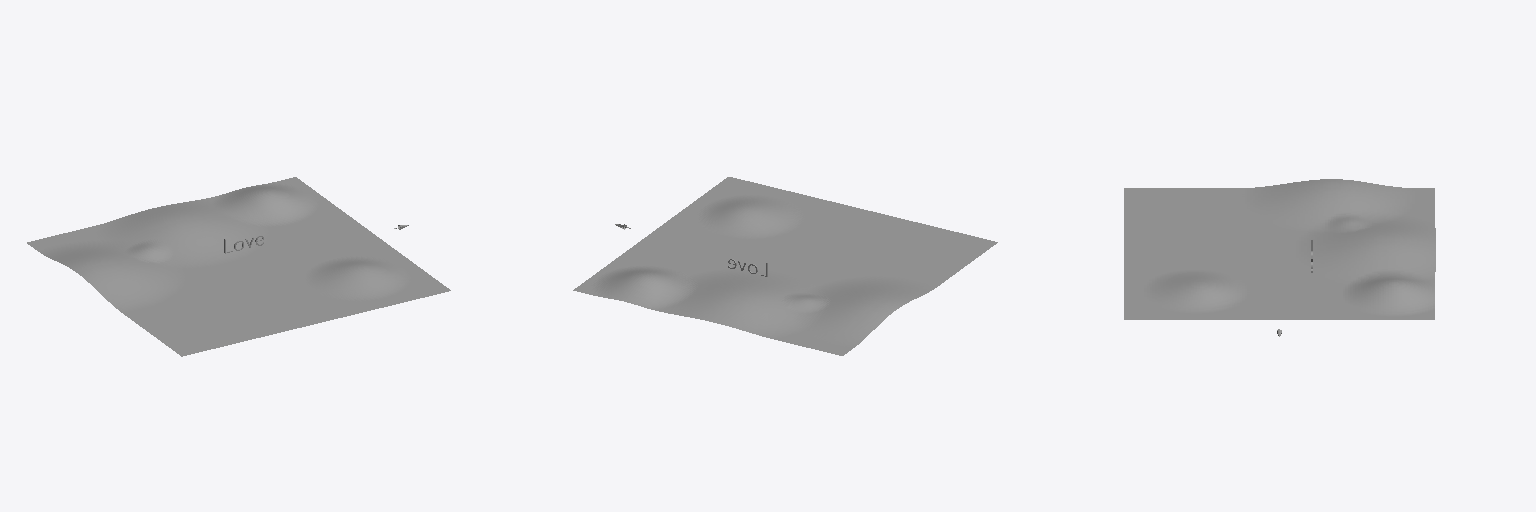
Rendered from Love.obj.
3 views of the same model, side by side, from view 1: azimuth 30°, elevation 25°; view 2: azimuth 150°, elevation 25°; view 3: azimuth 270°, elevation 25° (orthographic).
Visible parts, largest first — view 1: Plane; view 2: Plane; view 3: Plane.
Boxes of the visible parts, <box> form: Plane: <box>27,177,450,356</box>; Plane: <box>573,177,997,355</box>; Plane: <box>1124,179,1435,319</box>.
Bounding box in the file's own units: 14.27 × 0.7698 × 12.58.